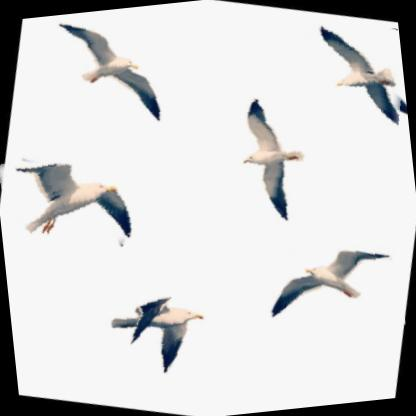bird: (0, 133, 153, 268), (33, 8, 188, 137), (205, 85, 329, 232), (256, 225, 404, 344), (91, 272, 221, 393), (284, 14, 408, 135)
